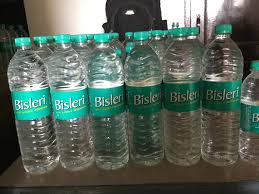Bisleri: (10, 92, 50, 116), (166, 88, 198, 104), (205, 86, 237, 102), (53, 95, 87, 110), (93, 94, 122, 109), (131, 94, 158, 106), (249, 109, 259, 127)
plastic: (12, 41, 55, 171), (49, 52, 94, 170), (205, 31, 239, 170), (88, 54, 127, 169), (164, 40, 199, 165), (126, 46, 162, 163)
